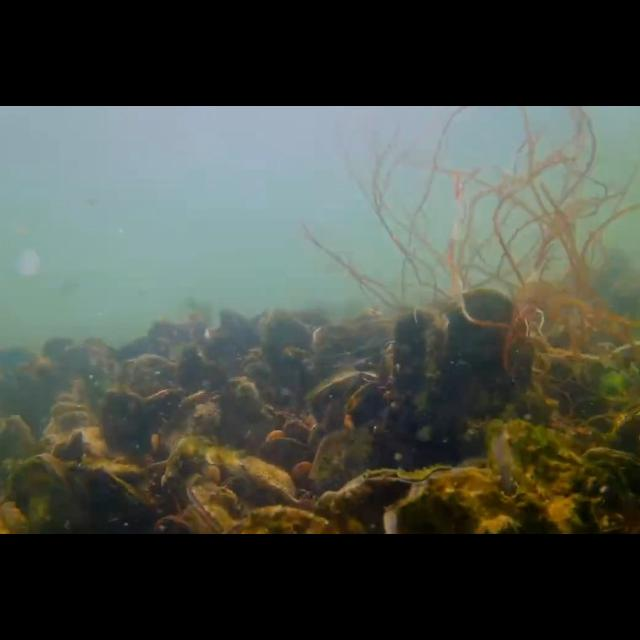Oyster-Closed: (76, 467, 158, 535), (160, 434, 218, 510), (185, 488, 239, 534)
Oyster-Indeterminate: (442, 286, 534, 416), (382, 308, 446, 416), (10, 454, 78, 534), (310, 427, 378, 495), (99, 387, 147, 461), (0, 415, 38, 489), (242, 458, 300, 504), (170, 390, 222, 434), (58, 432, 84, 462)
Oyster-Open: (486, 419, 588, 535), (306, 370, 384, 430)
